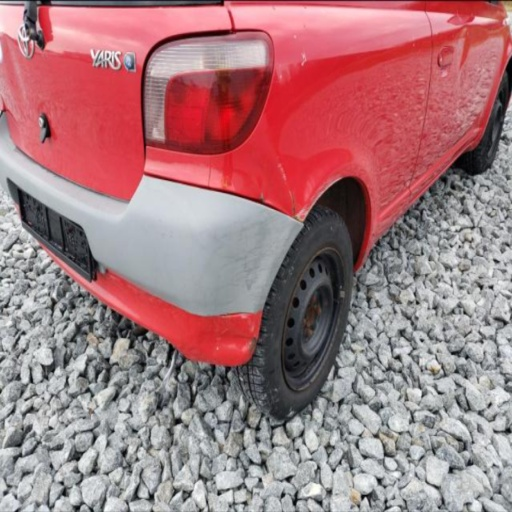dent: (209, 312, 260, 363), (215, 314, 260, 364), (453, 24, 475, 75), (470, 118, 482, 139), (300, 51, 307, 69)
rust: (304, 305, 321, 339), (285, 184, 297, 217), (247, 336, 258, 356), (247, 336, 257, 352), (219, 177, 230, 190), (258, 191, 265, 201)
scratch: (211, 211, 303, 311), (291, 176, 342, 224), (274, 156, 298, 218)
